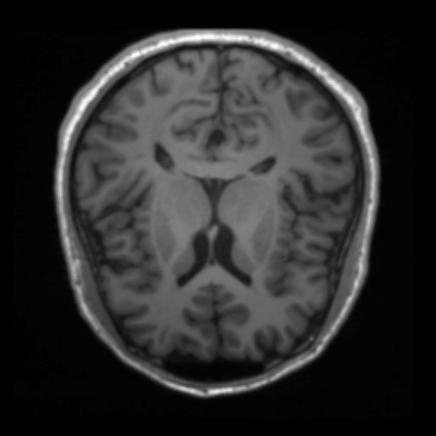Normal_Brain: (1, 1, 436, 436)
